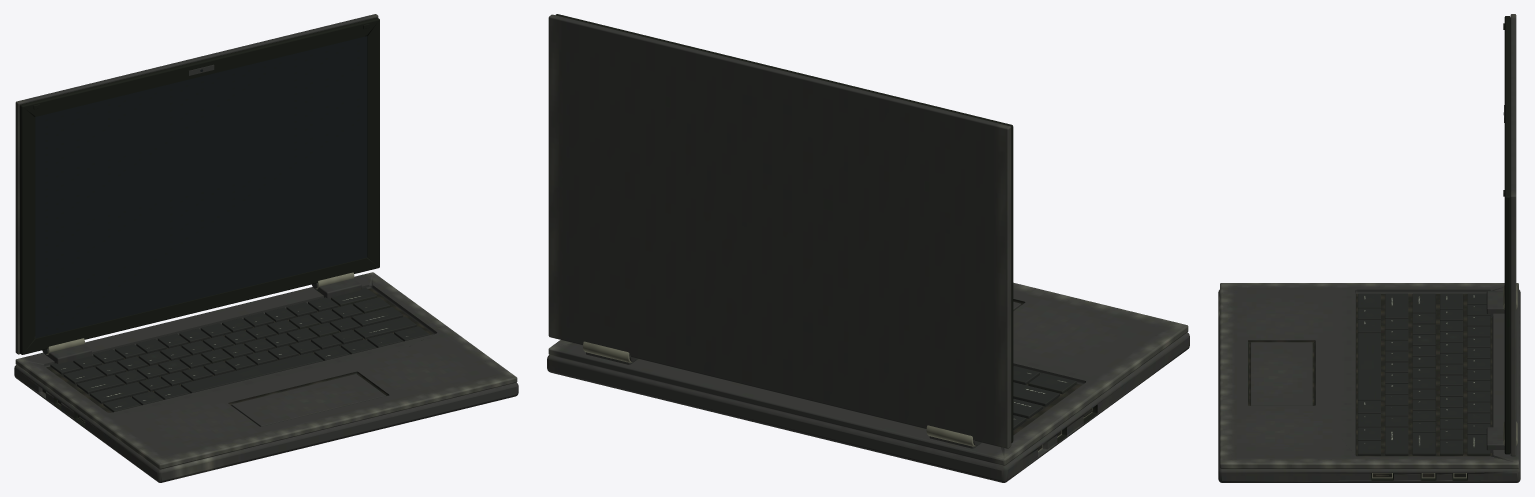
The model's file is laptop.glb.
3 views of the same model, side by side, from view 1: azimuth 30°, elevation 25°; view 2: azimuth 150°, elevation 25°; view 3: azimuth 270°, elevation 25° (orthographic). The views are drawn at different scales.
Parts seen in each view (by area): view 1: GEO-screen-Laptop_Glass, GEO-fixed-Laptop_Coating, GEO-fixed-Laptop_Keys, GEO-lid-Laptop_Rubber, GEO-lid-Laptop_Coating, GEO-fixed-Laptop_Rubber, GEO-fixed-Laptop_Metal; view 2: GEO-lid-Laptop_Coating, GEO-fixed-Laptop_Coating, GEO-fixed-Laptop_Keys, GEO-lid-Laptop_Rubber, GEO-fixed-Laptop_Metal; view 3: GEO-fixed-Laptop_Coating, GEO-fixed-Laptop_Keys, GEO-fixed-Laptop_Rubber, GEO-lid-Laptop_Coating, GEO-lid-Laptop_Rubber, GEO-fixed-Laptop_Metal.
Part boxes in pixels (x1,y1,x2,y2): GEO-screen-Laptop_Glass: (35,36,367,338); GEO-fixed-Laptop_Coating: (14,272,518,482); GEO-fixed-Laptop_Keys: (50,287,429,412); GEO-lid-Laptop_Rubber: (19,17,379,354); GEO-lid-Laptop_Coating: (15,14,378,354); GEO-fixed-Laptop_Rubber: (42,288,433,426); GEO-fixed-Laptop_Metal: (43,272,354,422); GEO-lid-Laptop_Coating: (548,14,1011,448); GEO-fixed-Laptop_Coating: (547,282,1189,482); GEO-fixed-Laptop_Keys: (1013,366,1076,429); GEO-lid-Laptop_Rubber: (555,14,1013,442); GEO-fixed-Laptop_Metal: (583,341,1092,451); GEO-fixed-Laptop_Coating: (1218,283,1520,482); GEO-fixed-Laptop_Keys: (1358,293,1490,455); GEO-fixed-Laptop_Rubber: (1249,293,1492,477); GEO-lid-Laptop_Coating: (1504,14,1516,456); GEO-lid-Laptop_Rubber: (1503,16,1510,454); GEO-fixed-Laptop_Metal: (1372,285,1517,478).
Bounding box in the file's own units: 0.3 × 0.223 × 0.21.
Materials: 5 (5 with a texture image).
